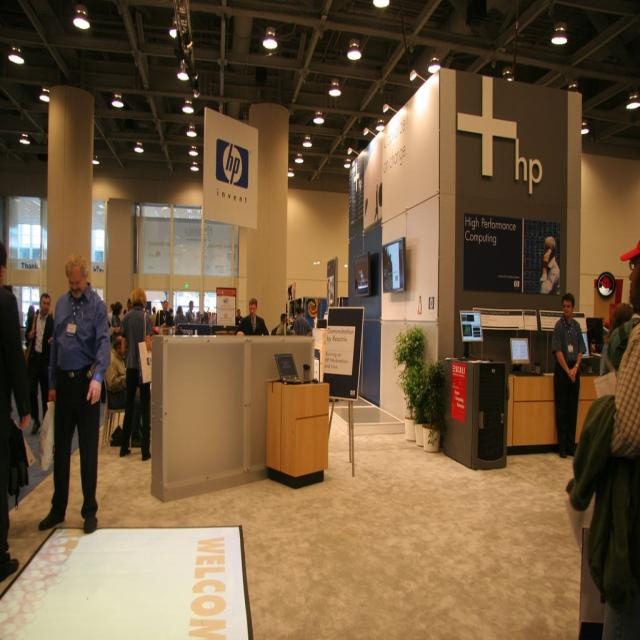HP: (215, 136, 254, 195)
